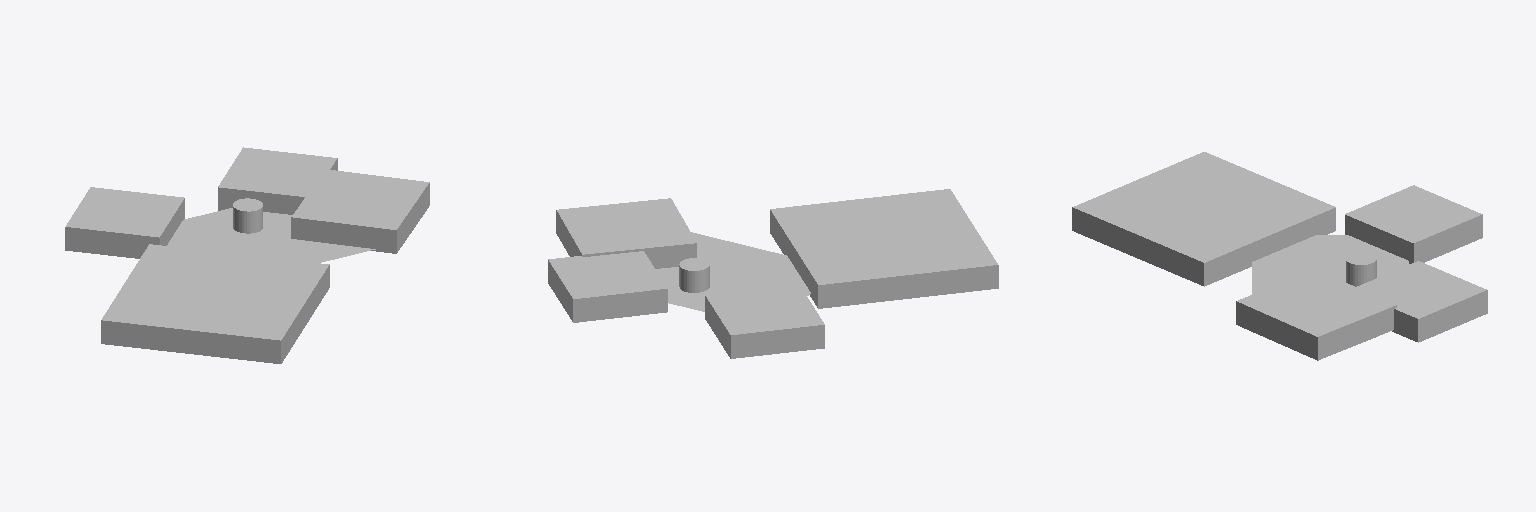
File: pacman_Scene.obj
3 views of the same model, side by side, from view 1: azimuth 30°, elevation 25°; view 2: azimuth 150°, elevation 25°; view 3: azimuth 270°, elevation 25° (orthographic).
Visible parts, largest first — view 1: Cube.003_Cube.005, Cube_Cube.001, Cube.002_Cube.004, Plane, Cube.001_Cube.003, Cylinder; view 2: Cube.003_Cube.005, Cube_Cube.001, Cube.002_Cube.004, Cube.001_Cube.003, Plane, Cylinder; view 3: Cube.003_Cube.005, Cube_Cube.001, Cube.002_Cube.004, Cube.001_Cube.003, Plane, Cylinder.
Part boxes in pixels (left/top/right/bottom): Cube.003_Cube.005: left=101, top=244, right=329, bottom=363; Cube_Cube.001: left=291, top=169, right=429, bottom=253; Cube.002_Cube.004: left=65, top=187, right=184, bottom=258; Plane: left=167, top=208, right=375, bottom=262; Cube.001_Cube.003: left=218, top=147, right=337, bottom=214; Cylinder: left=233, top=198, right=262, bottom=233; Cube.003_Cube.005: left=770, top=189, right=998, bottom=308; Cube_Cube.001: left=556, top=198, right=696, bottom=268; Cube.002_Cube.004: left=705, top=285, right=824, bottom=358; Cube.001_Cube.003: left=548, top=251, right=667, bottom=322; Plane: left=656, top=232, right=810, bottom=311; Cylinder: left=679, top=258, right=709, bottom=292; Cube.003_Cube.005: left=1072, top=152, right=1335, bottom=286; Cube_Cube.001: left=1236, top=269, right=1396, bottom=360; Cube.002_Cube.004: left=1345, top=185, right=1482, bottom=263; Cube.001_Cube.003: left=1357, top=261, right=1487, bottom=342; Plane: left=1252, top=235, right=1408, bottom=294; Cylinder: left=1346, top=252, right=1376, bottom=286.
Size of the model in its own units: 33.98 by 2.24 by 31.69.